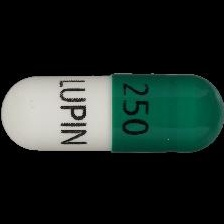50090-0072: (0, 0, 224, 224)
